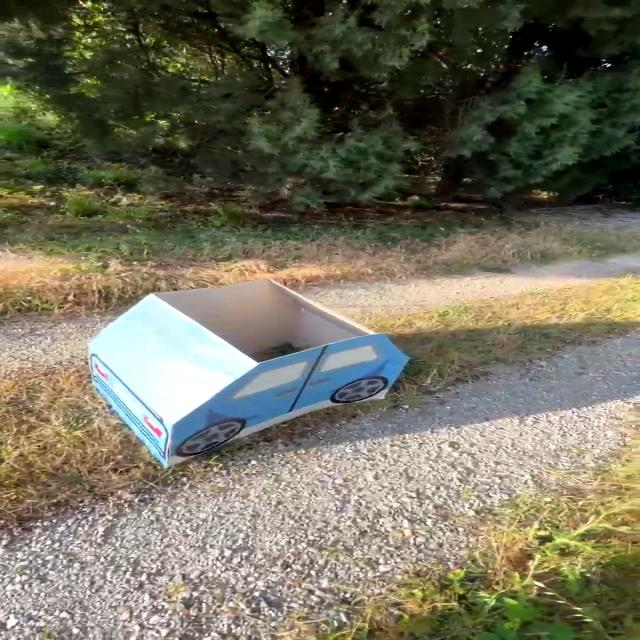blue_car: (46, 246, 461, 496)
